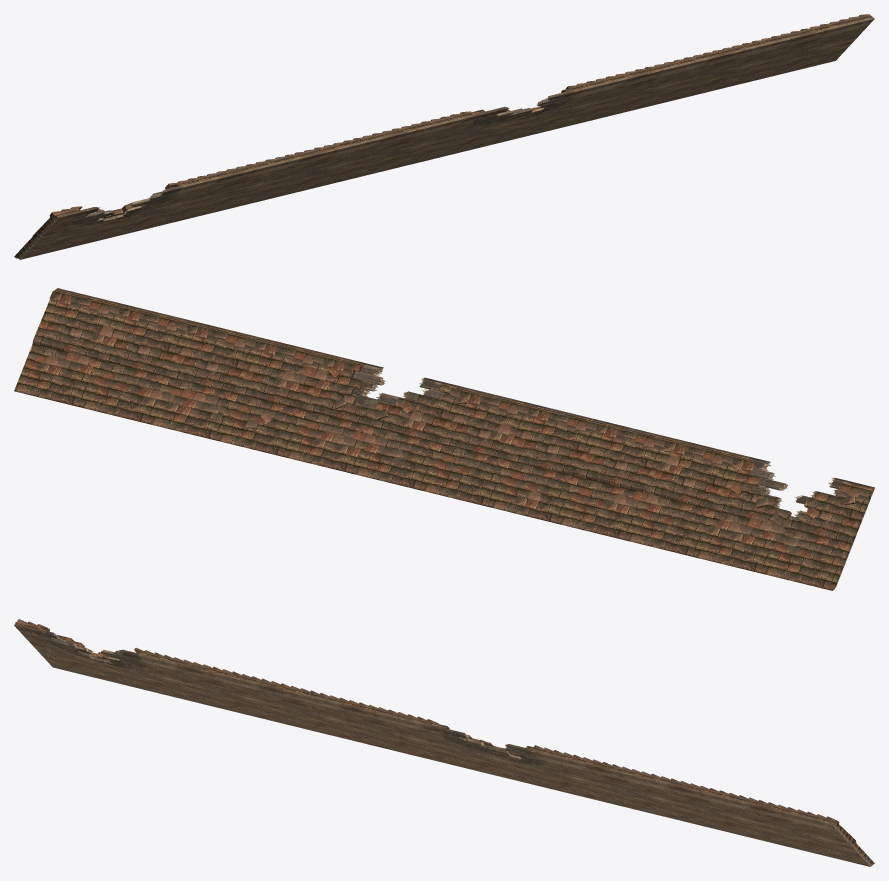
3 views of the same model, one above another, from view 1: azimuth 30°, elevation 25°; view 2: azimuth 150°, elevation 25°; view 3: azimuth 330°, elevation 25° (orthographic).
Parts seen in each view (by area): view 1: SM_SaradominTemple_Roof_Dmg_02_v1_LOD0; view 2: SM_SaradominTemple_Roof_Dmg_02_v1_LOD0; view 3: SM_SaradominTemple_Roof_Dmg_02_v1_LOD0.
Part boxes in pixels (box(x1,y1,x2,y2)): SM_SaradominTemple_Roof_Dmg_02_v1_LOD0: box(14, 14, 874, 259); SM_SaradominTemple_Roof_Dmg_02_v1_LOD0: box(14, 288, 874, 590); SM_SaradominTemple_Roof_Dmg_02_v1_LOD0: box(14, 619, 874, 866).
Bounding box in the file's own units: 48.03 × 4.07 × 4.46.
Materials: 3 (3 with a texture image).
